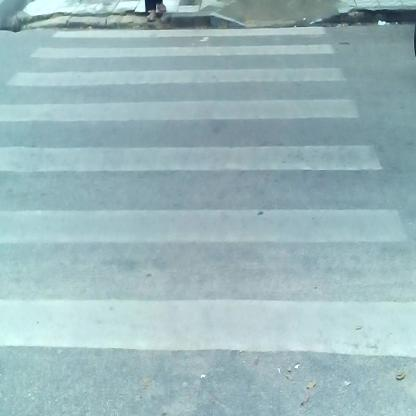crosswalk: (11, 31, 416, 389)
sidewalk: (6, 2, 415, 43)
